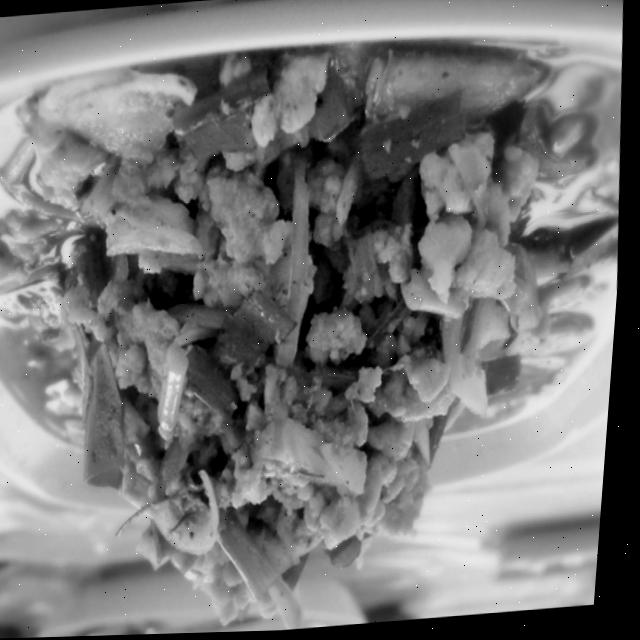鸡肉料理 含炸鸡: (0, 11, 638, 640)
